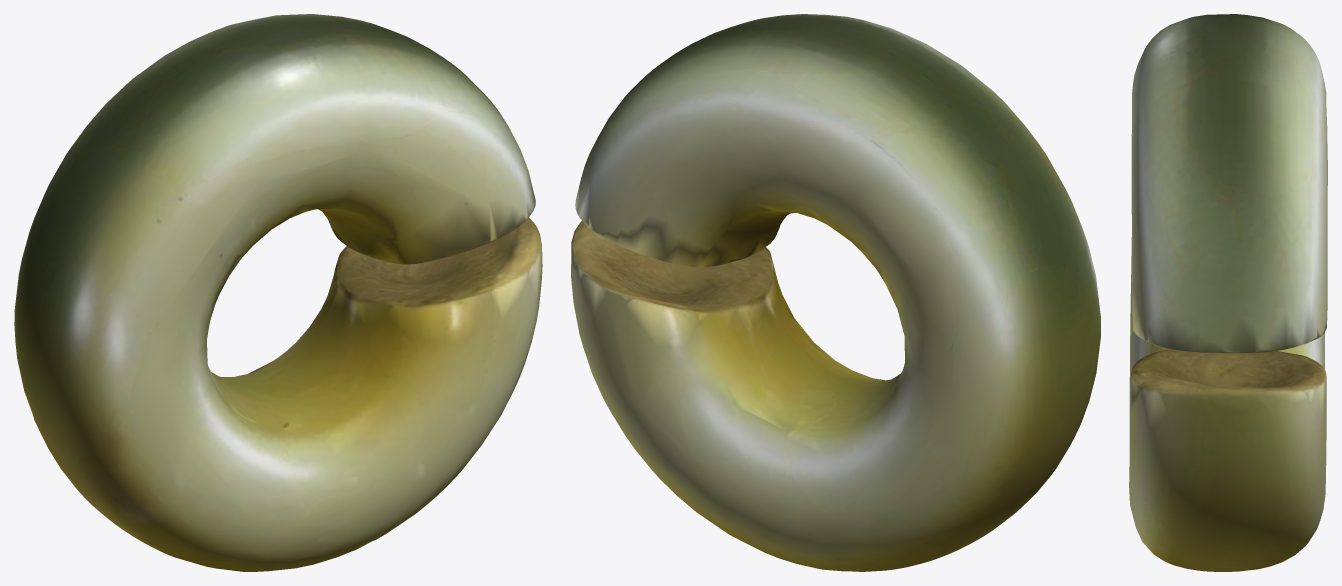
Rendered from jade-jue-overview.glb.
3 views of the same model, side by side, from view 1: azimuth 30°, elevation 25°; view 2: azimuth 150°, elevation 25°; view 3: azimuth 270°, elevation 25° (orthographic). The views are drawn at different scales.
Visible parts, largest first — view 1: node_0; view 2: node_0; view 3: node_0.
Part boxes in pixels (x1,y1,x2,y2): node_0: [14, 14, 542, 571]; node_0: [571, 14, 1100, 571]; node_0: [1129, 14, 1327, 571].
Size of the model in its own units: 1.19 by 1.2 by 0.4237.
1 material, 1 textured.
